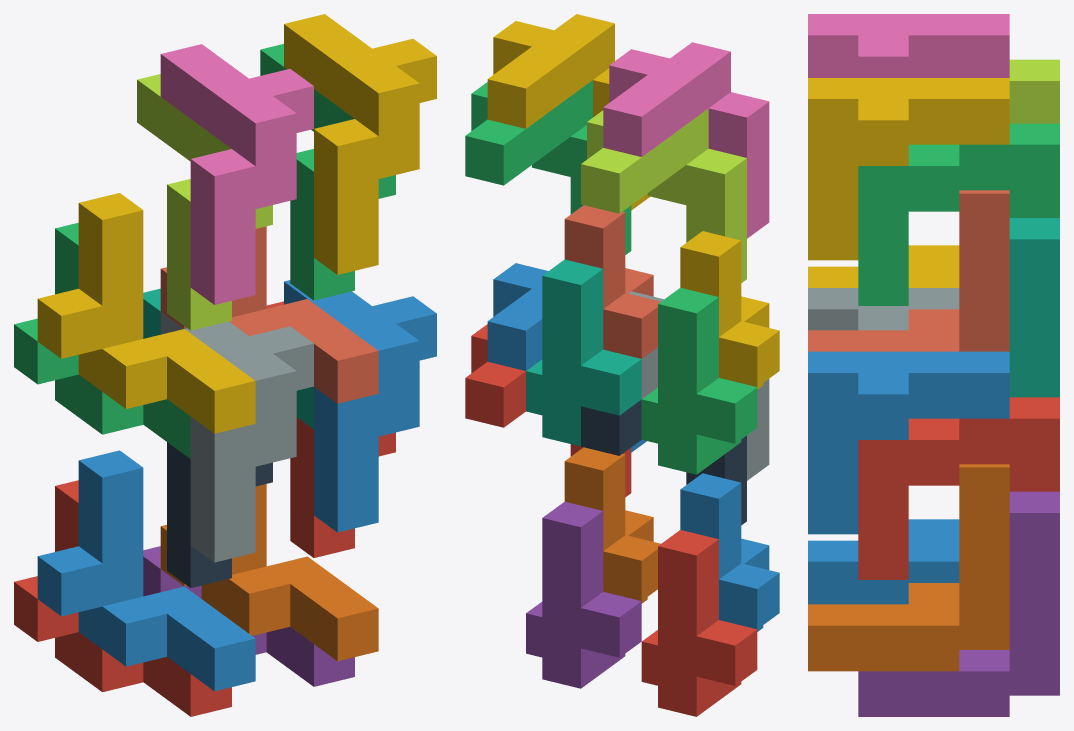
Rendered from tiling.obj.
3 views of the same model, side by side, from view 1: azimuth 30°, elevation 25°; view 2: azimuth 150°, elevation 25°; view 3: azimuth 270°, elevation 25° (orthographic). The views are drawn at different scales.
Parts seen in each view (by area): view 1: copy_1_domain_2, copy_1_domain_4, copy_2_domain_4, copy_2_domain_8, copy_2_domain_2, copy_2_domain_6, copy_1_domain_6, copy_1_domain_1, copy_1_domain_3, copy_1_domain_8, copy_2_domain_3, copy_2_domain_7 (+4 smaller); view 2: copy_2_domain_4, copy_1_domain_5, copy_1_domain_1, copy_1_domain_3, copy_1_domain_7, copy_2_domain_3, copy_2_domain_8, copy_2_domain_7, copy_1_domain_2, copy_1_domain_4, copy_1_domain_6, copy_1_domain_8 (+4 smaller); view 3: copy_1_domain_6, copy_2_domain_6, copy_2_domain_8, copy_1_domain_5, copy_2_domain_5, copy_2_domain_7, copy_2_domain_4, copy_1_domain_8, copy_1_domain_7, copy_1_domain_2, copy_2_domain_2, copy_1_domain_4 (+3 smaller).
Boxes of the visible parts, <box> form: copy_1_domain_2: <box>37,450,255,691</box>; copy_1_domain_4: <box>37,193,255,433</box>; copy_2_domain_4: <box>160,44,313,304</box>; copy_2_domain_8: <box>284,14,436,274</box>; copy_2_domain_2: <box>160,312,313,562</box>; copy_2_domain_6: <box>284,280,436,532</box>; copy_1_domain_6: <box>160,484,378,661</box>; copy_1_domain_1: <box>14,480,231,716</box>; copy_1_domain_3: <box>14,222,190,458</box>; copy_1_domain_8: <box>160,226,378,403</box>; copy_2_domain_3: <box>137,74,272,330</box>; copy_2_domain_7: <box>260,44,395,300</box>; copy_2_domain_4: <box>603,42,769,238</box>; copy_1_domain_5: <box>526,501,641,688</box>; copy_1_domain_1: <box>641,530,757,716</box>; copy_1_domain_3: <box>641,287,757,474</box>; copy_1_domain_7: <box>526,259,641,446</box>; copy_2_domain_3: <box>581,108,746,282</box>; copy_2_domain_8: <box>487,14,650,210</box>; copy_2_domain_7: <box>465,80,631,254</box>; copy_1_domain_2: <box>680,473,779,631</box>; copy_1_domain_4: <box>680,231,779,389</box>; copy_1_domain_6: <box>564,447,660,603</box>; copy_1_domain_8: <box>564,205,660,358</box>; copy_1_domain_6: <box>808,464,1009,671</box>; copy_2_domain_6: <box>808,351,1009,534</box>; copy_2_domain_8: <box>808,78,1009,260</box>; copy_1_domain_5: <box>858,491,1059,716</box>; copy_2_domain_5: <box>858,397,1059,579</box>; copy_2_domain_7: <box>858,123,1059,305</box>; copy_2_domain_4: <box>808,14,1009,77</box>; copy_1_domain_8: <box>808,190,1009,351</box>; copy_1_domain_7: <box>1009,218,1059,397</box>; copy_1_domain_2: <box>808,519,959,604</box>; copy_2_domain_2: <box>808,288,959,330</box>; copy_1_domain_4: <box>808,245,959,287</box>.
Size of the model in its own units: 8 by 14 by 5.
